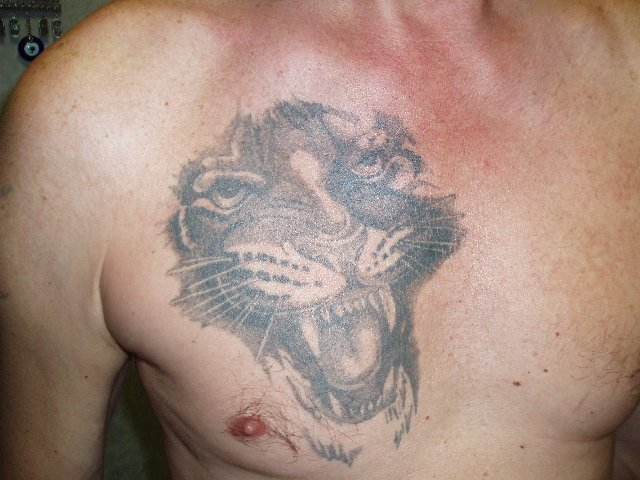tatu5_tigr: (156, 96, 468, 419)
